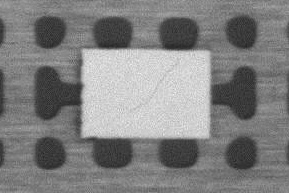DIE_CRACK: (134, 64, 176, 107)
